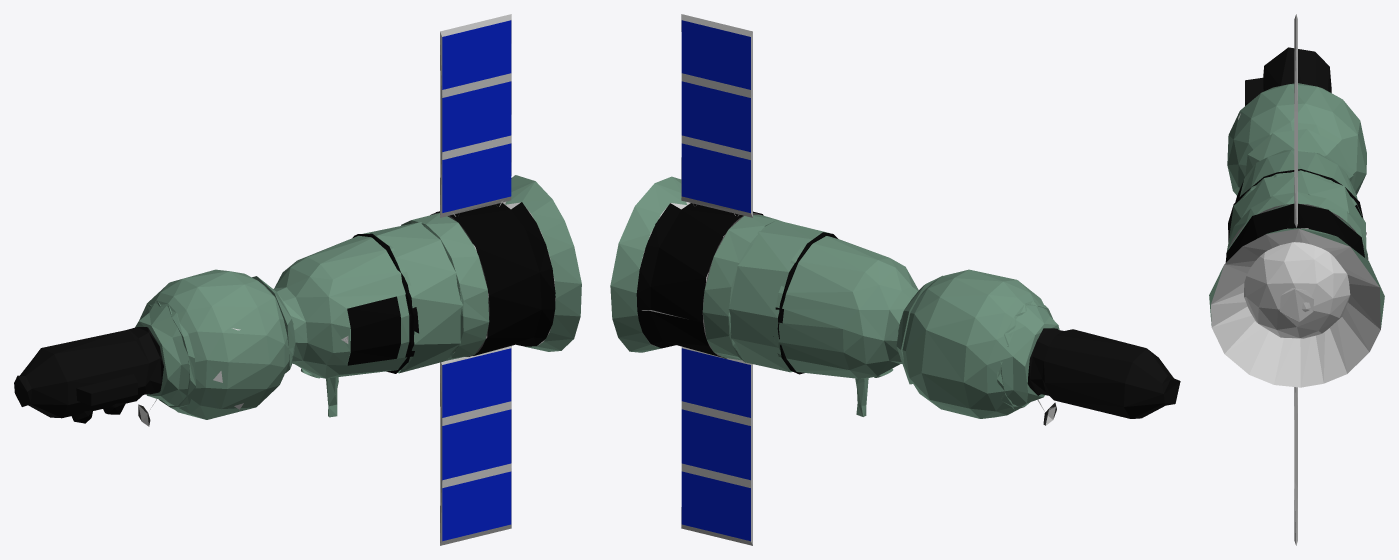
Rendered from soyuz.obj.
The picture shows the model from 3 angles, left to right: view 1: azimuth 30°, elevation 25°; view 2: azimuth 150°, elevation 25°; view 3: azimuth 270°, elevation 25°; orthographic projection. The views are drawn at different scales.
Visible parts, largest first — view 1: polySurfac; view 2: polySurfac; view 3: polySurfac.
Part boxes in pixels (x1=…): polySurfac: x1=14, y1=14, x2=581, y2=545; polySurfac: x1=610, y1=14, x2=1180, y2=545; polySurfac: x1=1209, y1=14, x2=1384, y2=545.
Bounding box in the file's own units: 1.01 × 0.9634 × 0.3081.
